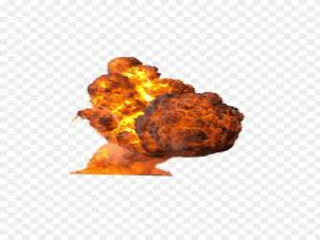fire: (81, 56, 247, 182)
